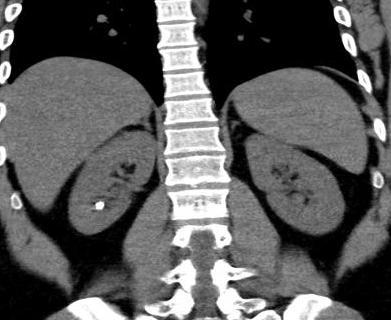Tas_Var: (94, 200, 106, 212)
